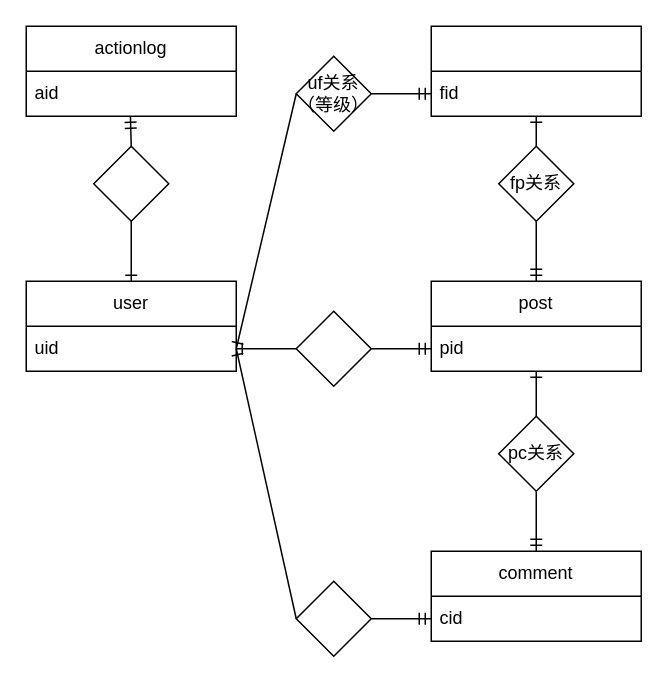
The diagram is 668 pixels wide and 683 high, and some of its shapes have lost their labels. The shapes that lost their labels are listed below. From the top down, each one's box as (x1, y1, x2, y2) in pixels, then its label:
(430, 25, 641, 116): forum
(92, 145, 169, 221): ua关系
(295, 310, 371, 386): up关系
(295, 580, 371, 656): uc管理
